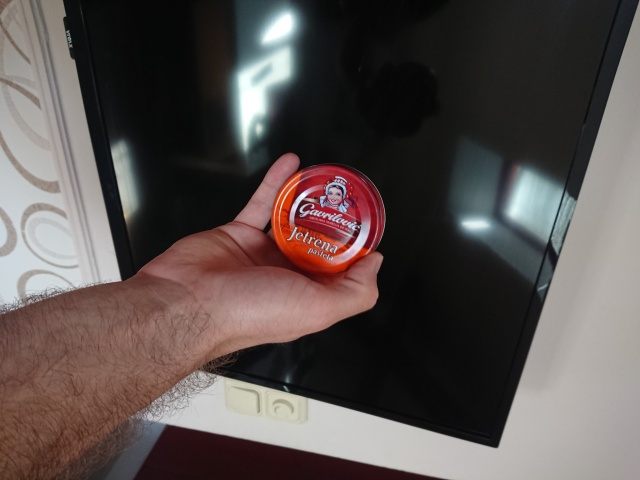Gavrilovic Pork Liver Pate 100g: (269, 158, 389, 279)
